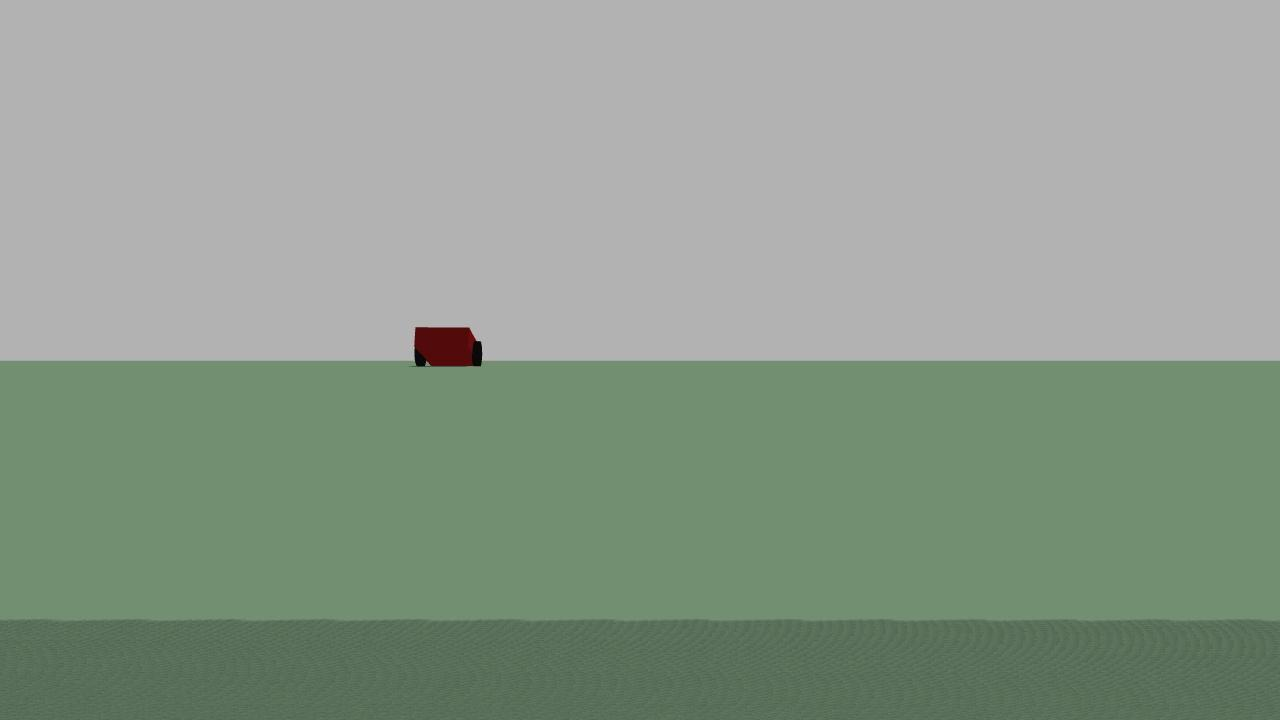ground_vehicle: (401, 311, 490, 381)
